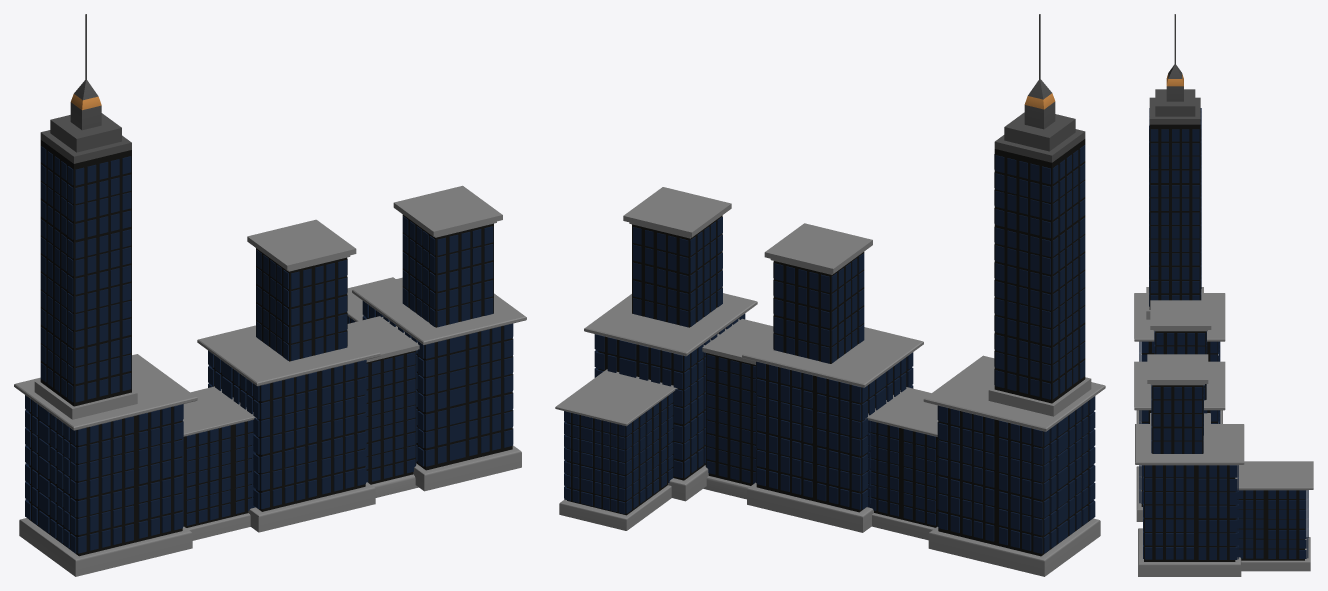
The model's file is Building_Wall_04.fbx.
The picture shows the model from 3 angles, left to right: view 1: azimuth 30°, elevation 25°; view 2: azimuth 150°, elevation 25°; view 3: azimuth 270°, elevation 25°; orthographic projection. The views are drawn at different scales.
Visible parts, largest first — view 1: Building_Medium6; view 2: Building_Medium6; view 3: Building_Medium6.
Part boxes in pixels (x1,y1,x2,y2): Building_Medium6: (14, 14, 526, 576); Building_Medium6: (555, 14, 1105, 576); Building_Medium6: (1134, 14, 1313, 576).
Size of the model in its own units: 2840 by 3226 by 1274.
